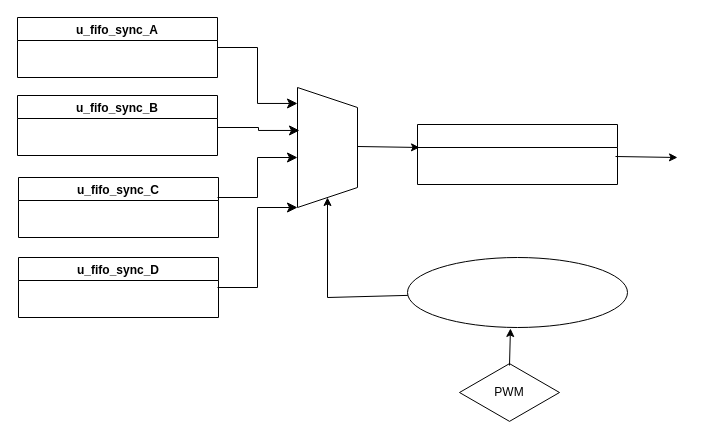
The diagram is 703 pixels wide and 440 high, and some of its shapes have lost their labels. Here are the shapes that lost their labels. From the top down, the centre of each, then its label:
At (517,154): "u_fifo_sync_E".
At (517,292): "weighted_round_robin_inst".
